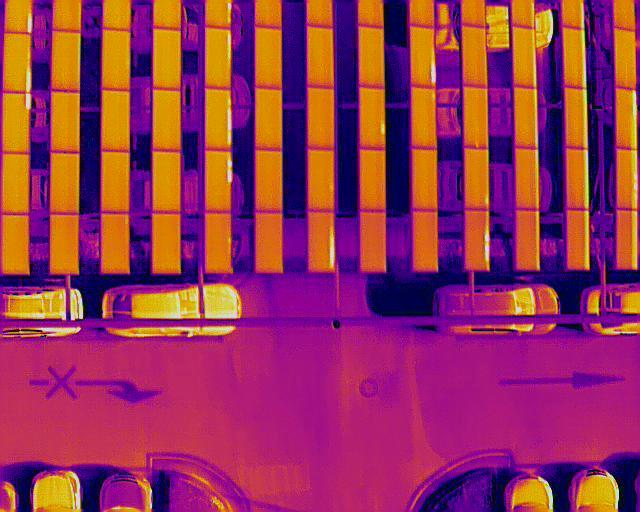Cell: (360, 84, 386, 151)
No-Anomaly: (100, 151, 130, 214), (102, 27, 131, 91), (254, 149, 282, 215), (51, 152, 80, 215), (101, 212, 130, 274), (2, 153, 30, 216), (153, 151, 181, 214), (102, 90, 130, 152), (51, 213, 79, 275), (154, 88, 181, 152), (51, 92, 79, 153), (52, 31, 80, 92), (359, 209, 386, 272), (154, 27, 181, 90), (464, 147, 490, 212), (308, 148, 334, 213), (255, 88, 282, 150), (3, 214, 30, 276), (256, 212, 283, 273), (411, 149, 437, 212), (308, 25, 334, 88), (308, 85, 333, 150), (462, 23, 487, 88), (411, 212, 438, 272), (154, 212, 181, 272), (205, 211, 231, 273), (256, 28, 282, 90), (411, 86, 436, 150), (206, 26, 231, 90), (514, 209, 540, 270), (514, 85, 538, 150), (564, 85, 588, 150), (512, 24, 536, 89), (359, 25, 384, 86), (361, 151, 386, 210), (515, 149, 539, 210), (465, 86, 488, 149), (563, 25, 586, 88), (567, 148, 589, 209), (615, 210, 637, 270), (614, 29, 636, 88), (568, 212, 590, 269), (617, 148, 637, 209)
Unclassified: (204, 151, 232, 214), (2, 94, 31, 154), (204, 88, 231, 151), (4, 32, 31, 93), (465, 208, 490, 272), (411, 25, 436, 87), (310, 211, 335, 271), (615, 88, 637, 148)
